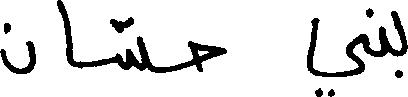X: (307, 13, 363, 96), (0, 18, 36, 78), (115, 12, 147, 75), (189, 36, 226, 76), (391, 6, 407, 82), (57, 0, 73, 71), (375, 21, 387, 61)
